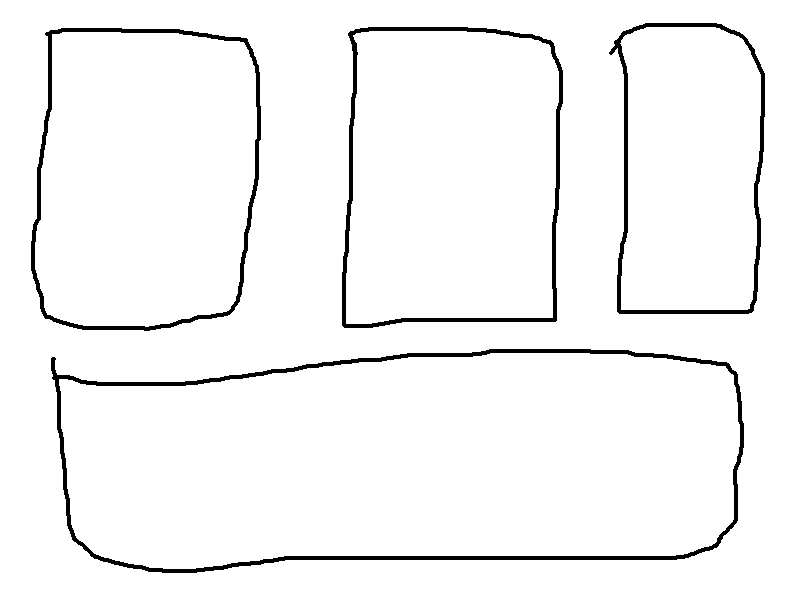rect: (46, 343, 746, 577), (28, 21, 263, 335), (336, 20, 564, 334), (606, 20, 769, 319)
